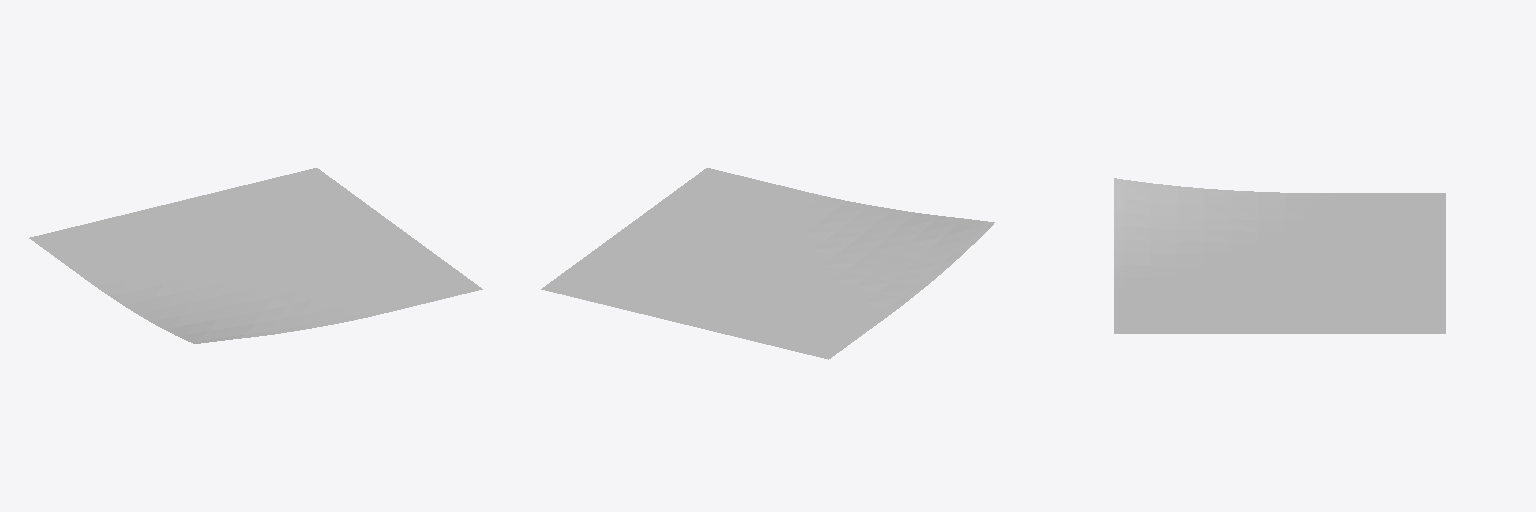
The model's file is Landscape.obj.
3 views of the same model, side by side, from view 1: azimuth 30°, elevation 25°; view 2: azimuth 150°, elevation 25°; view 3: azimuth 270°, elevation 25° (orthographic).
Parts seen in each view (by area): view 1: Landscape; view 2: Landscape; view 3: Landscape.
Boxes of the visible parts, x1,y1,x2,y2 form: Landscape: [29, 168, 482, 343]; Landscape: [541, 168, 994, 359]; Landscape: [1114, 178, 1445, 333].
Bounding box in the file's own units: 32 × 1.62 × 32.